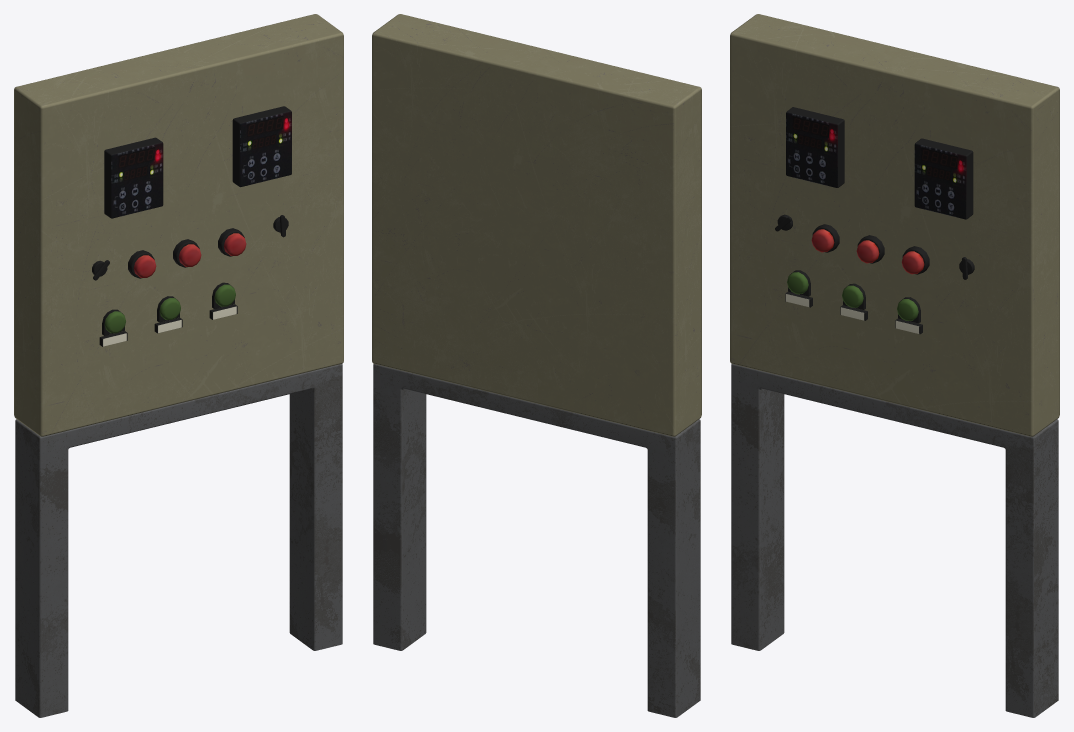
The model's file is KZQ_C.fbx.
3 renders of one model, left to right at view 1: azimuth 30°, elevation 25°; view 2: azimuth 150°, elevation 25°; view 3: azimuth 330°, elevation 25°, orthographic.
Parts seen in each view (by area): view 1: polySurface325; view 2: polySurface325; view 3: polySurface325.
Boxes of the visible parts, x1,y1,x2,y2 form: polySurface325: (14,14,343,717); polySurface325: (372,14,701,717); polySurface325: (730,14,1059,717).
Bounding box in the file's own units: 119 × 229 × 24.15.
